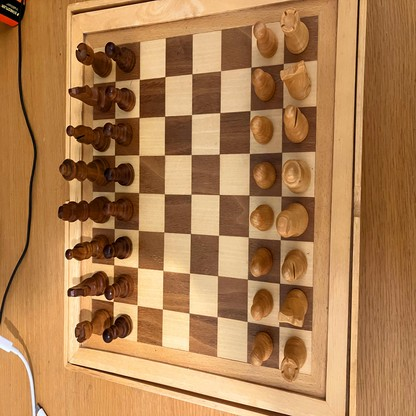bishop_black: (66, 235, 107, 262), (67, 126, 111, 151)
bishop_white: (284, 106, 309, 140), (283, 250, 307, 282)
king_black: (59, 196, 111, 222)
king_white: (277, 203, 309, 235)
knight_black: (69, 86, 111, 110), (68, 273, 109, 294)
knight_white: (280, 62, 312, 101), (278, 289, 308, 327)
pawn_black: (106, 41, 135, 70), (105, 314, 133, 342), (104, 199, 134, 223), (107, 85, 135, 110), (105, 276, 135, 299), (105, 164, 135, 185), (105, 237, 132, 259), (104, 123, 131, 144)
pawn_white: (255, 22, 279, 57), (250, 332, 273, 365), (253, 69, 276, 100), (252, 289, 273, 322), (250, 248, 272, 276), (251, 205, 274, 230), (252, 117, 273, 142), (254, 163, 275, 188)
queen_black: (60, 158, 107, 188)
queen_white: (283, 160, 311, 193)
rock_black: (75, 308, 112, 341), (76, 43, 112, 76)
rock_white: (281, 8, 309, 53), (281, 335, 307, 381)
